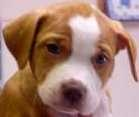dog: (3, 0, 139, 117)
